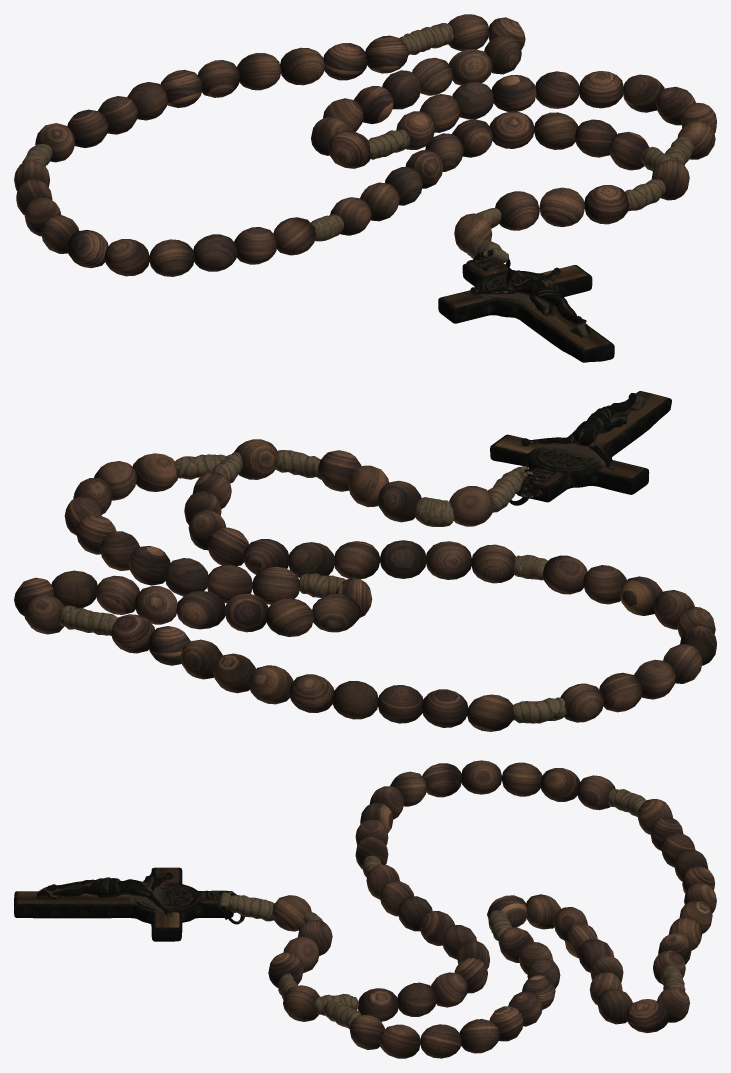
Rendered from item_rosary.glb.
3 views of the same model, one above another, from view 1: azimuth 30°, elevation 25°; view 2: azimuth 150°, elevation 25°; view 3: azimuth 270°, elevation 25° (orthographic). The views are drawn at different scales.
Parts seen in each view (by area): view 1: VP_Free_Rosary; view 2: VP_Free_Rosary; view 3: VP_Free_Rosary.
Part boxes in pixels (x1,y1,x2,y2): VP_Free_Rosary: (14,14,716,362); VP_Free_Rosary: (14,391,716,731); VP_Free_Rosary: (14,760,716,1058).
Bounding box in the file's own units: 0.0952 × 0.0068 × 0.1015.
5 materials, 5 textured.
